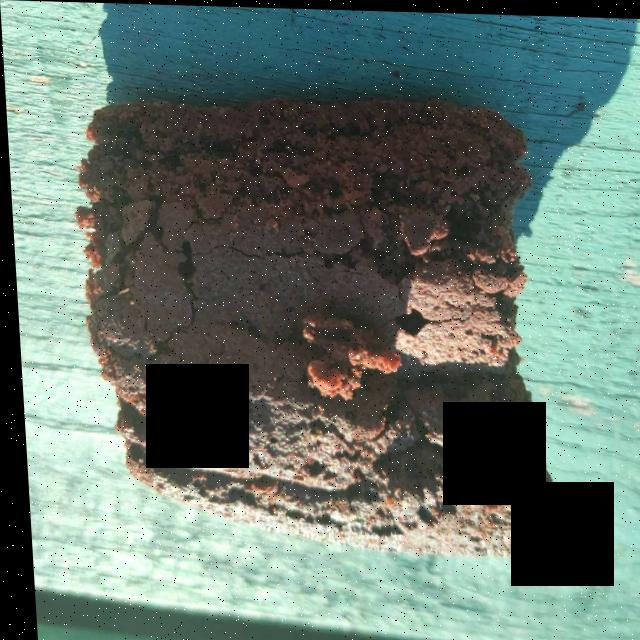brownie: (84, 111, 545, 543)
